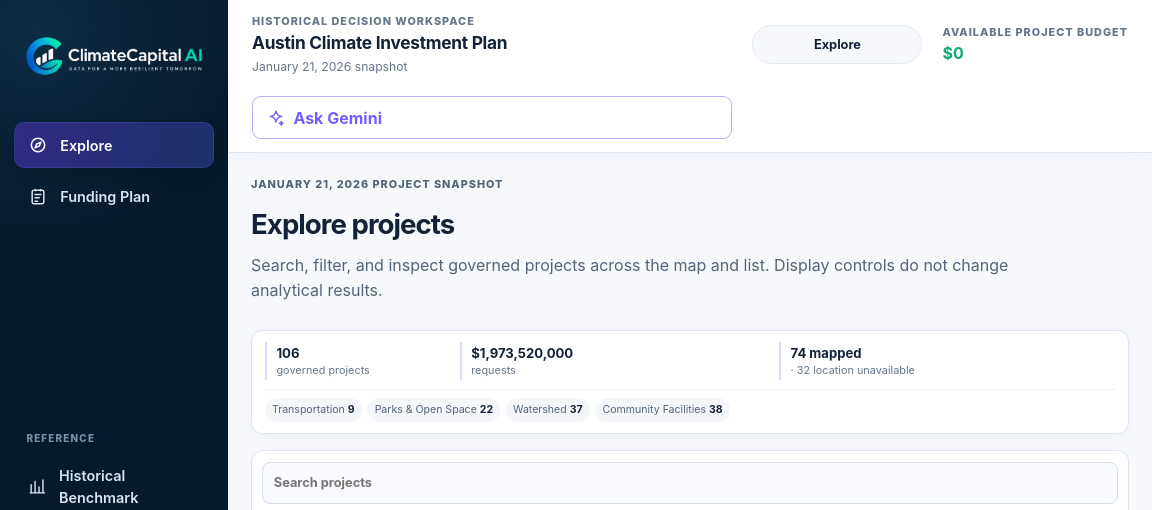
Test: ClimateCapital application shell › routes to the governed Funding Plan without arbitrary membership controls
Click the link "Funding Plan": x=89, y=197 top-left (28, 187), bottom-right (150, 207)
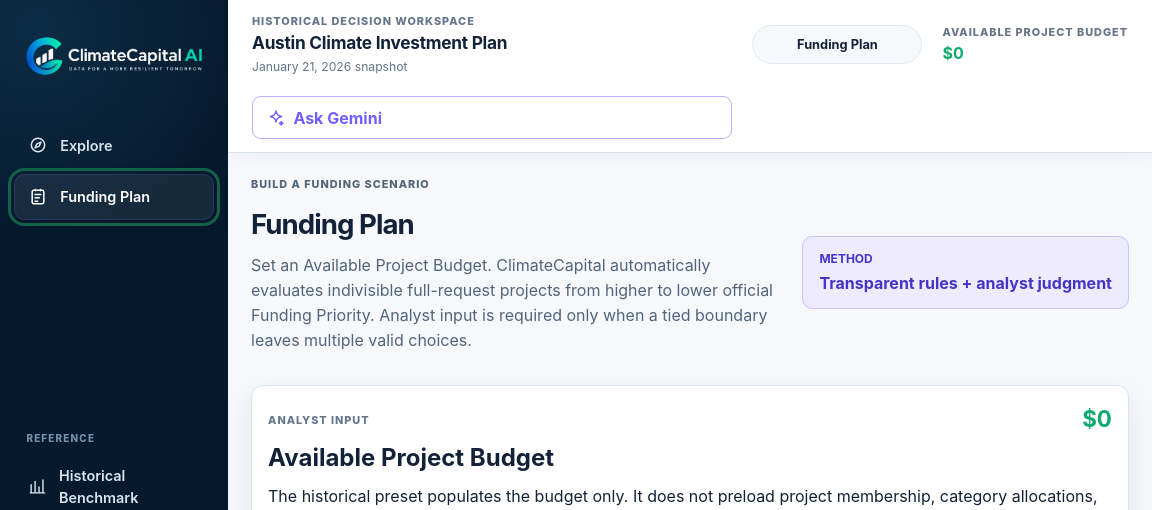
Result: the heading "Funding Plan" is shown at top-left (251, 207), bottom-right (414, 241)
Result: the heading "Available Project Budget" is shown at top-left (268, 440), bottom-right (554, 476)
